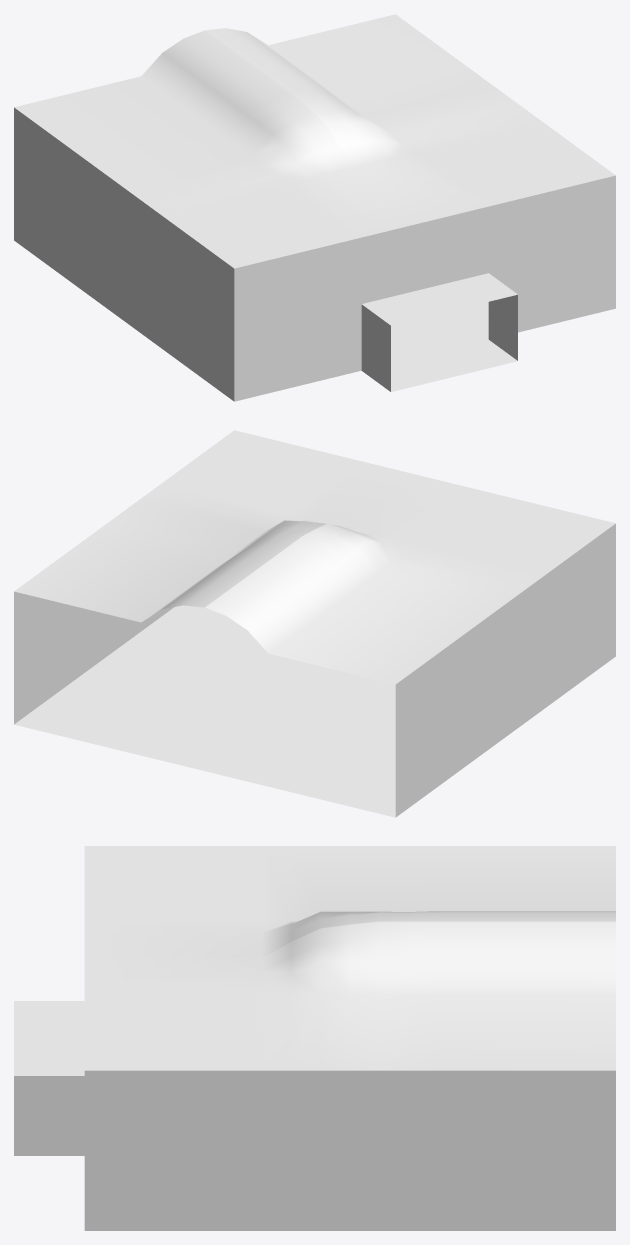
File: dead end.fbx
The picture shows the model from 3 angles, top to bottom: view 1: azimuth 30°, elevation 25°; view 2: azimuth 150°, elevation 25°; view 3: azimuth 270°, elevation 25°; orthographic projection. The views are drawn at different scales.
Visible parts, largest first — view 1: pPlane13; view 2: pPlane13; view 3: pPlane13.
Part boxes in pixels (x1=…): pPlane13: x1=14, y1=14, x2=615, y2=401; pPlane13: x1=14, y1=430, x2=615, y2=817; pPlane13: x1=14, y1=846, x2=615, y2=1230.
Bounding box in the file's own units: 1500 × 614 × 1700.
